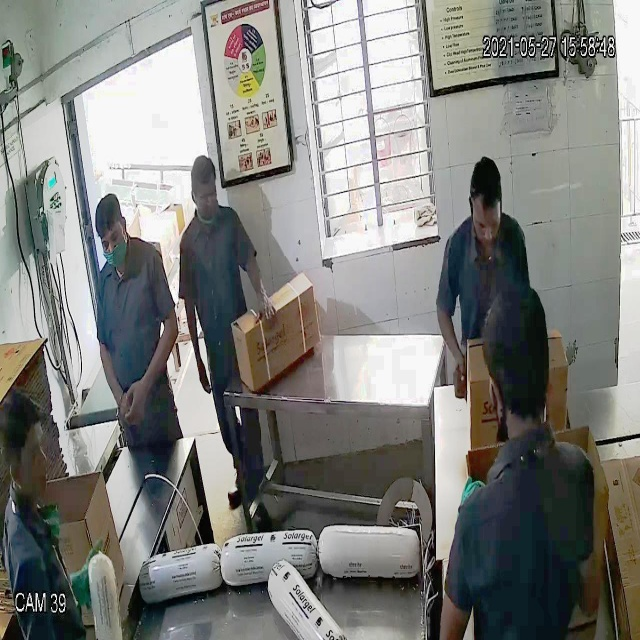Sin_gafas: (466, 206, 504, 239), (93, 226, 132, 256)
